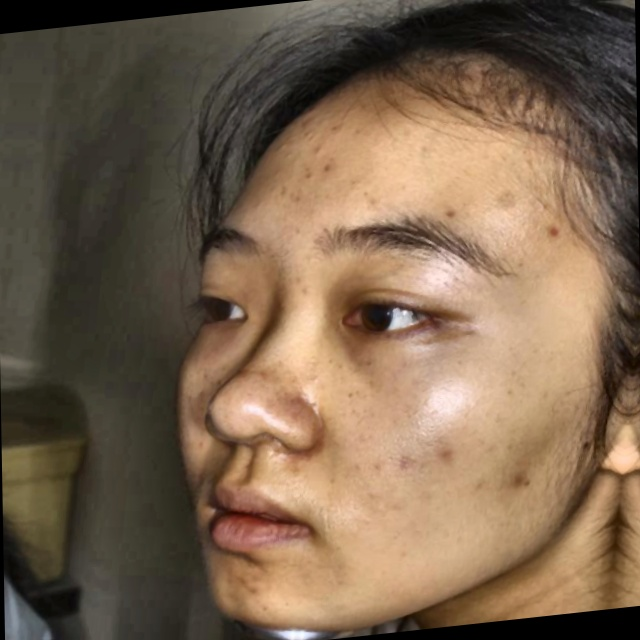comedone: (235, 566, 268, 606), (498, 467, 537, 496), (430, 441, 463, 474), (311, 153, 342, 187), (540, 215, 563, 248)
